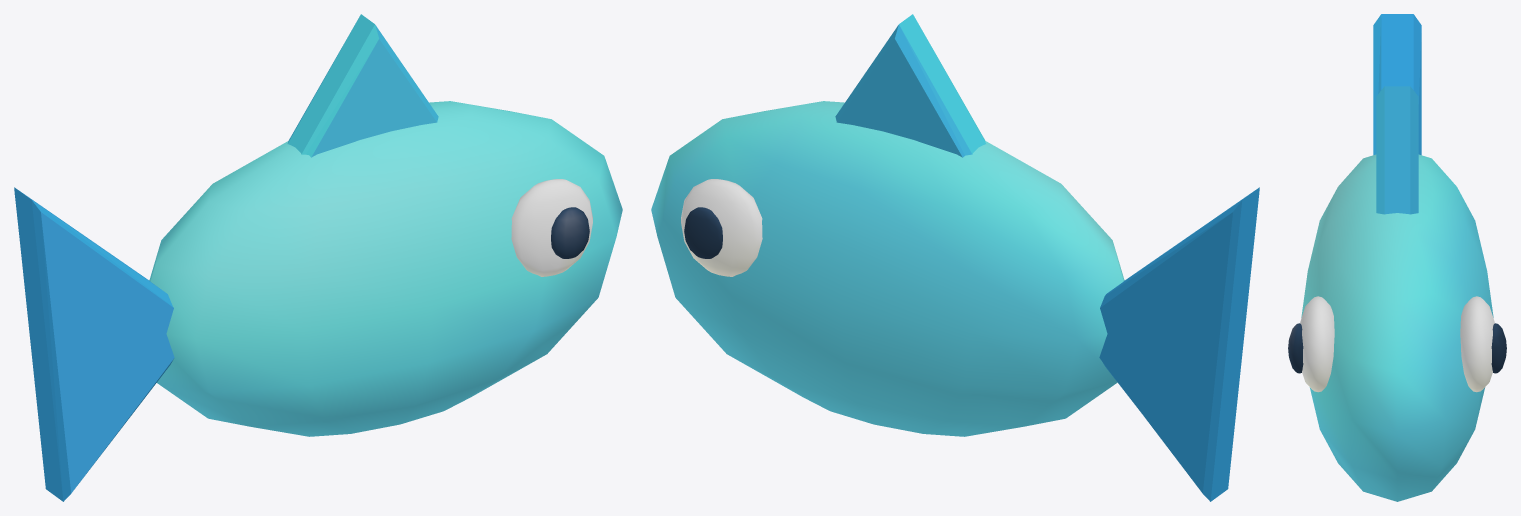
Rendered from pickup.glb.
The picture shows the model from 3 angles, left to right: view 1: azimuth 30°, elevation 25°; view 2: azimuth 150°, elevation 25°; view 3: azimuth 270°, elevation 25°; orthographic projection. The views are drawn at different scales.
Size of the model in its own units: 0.25 by 0.1614 by 0.0855.
